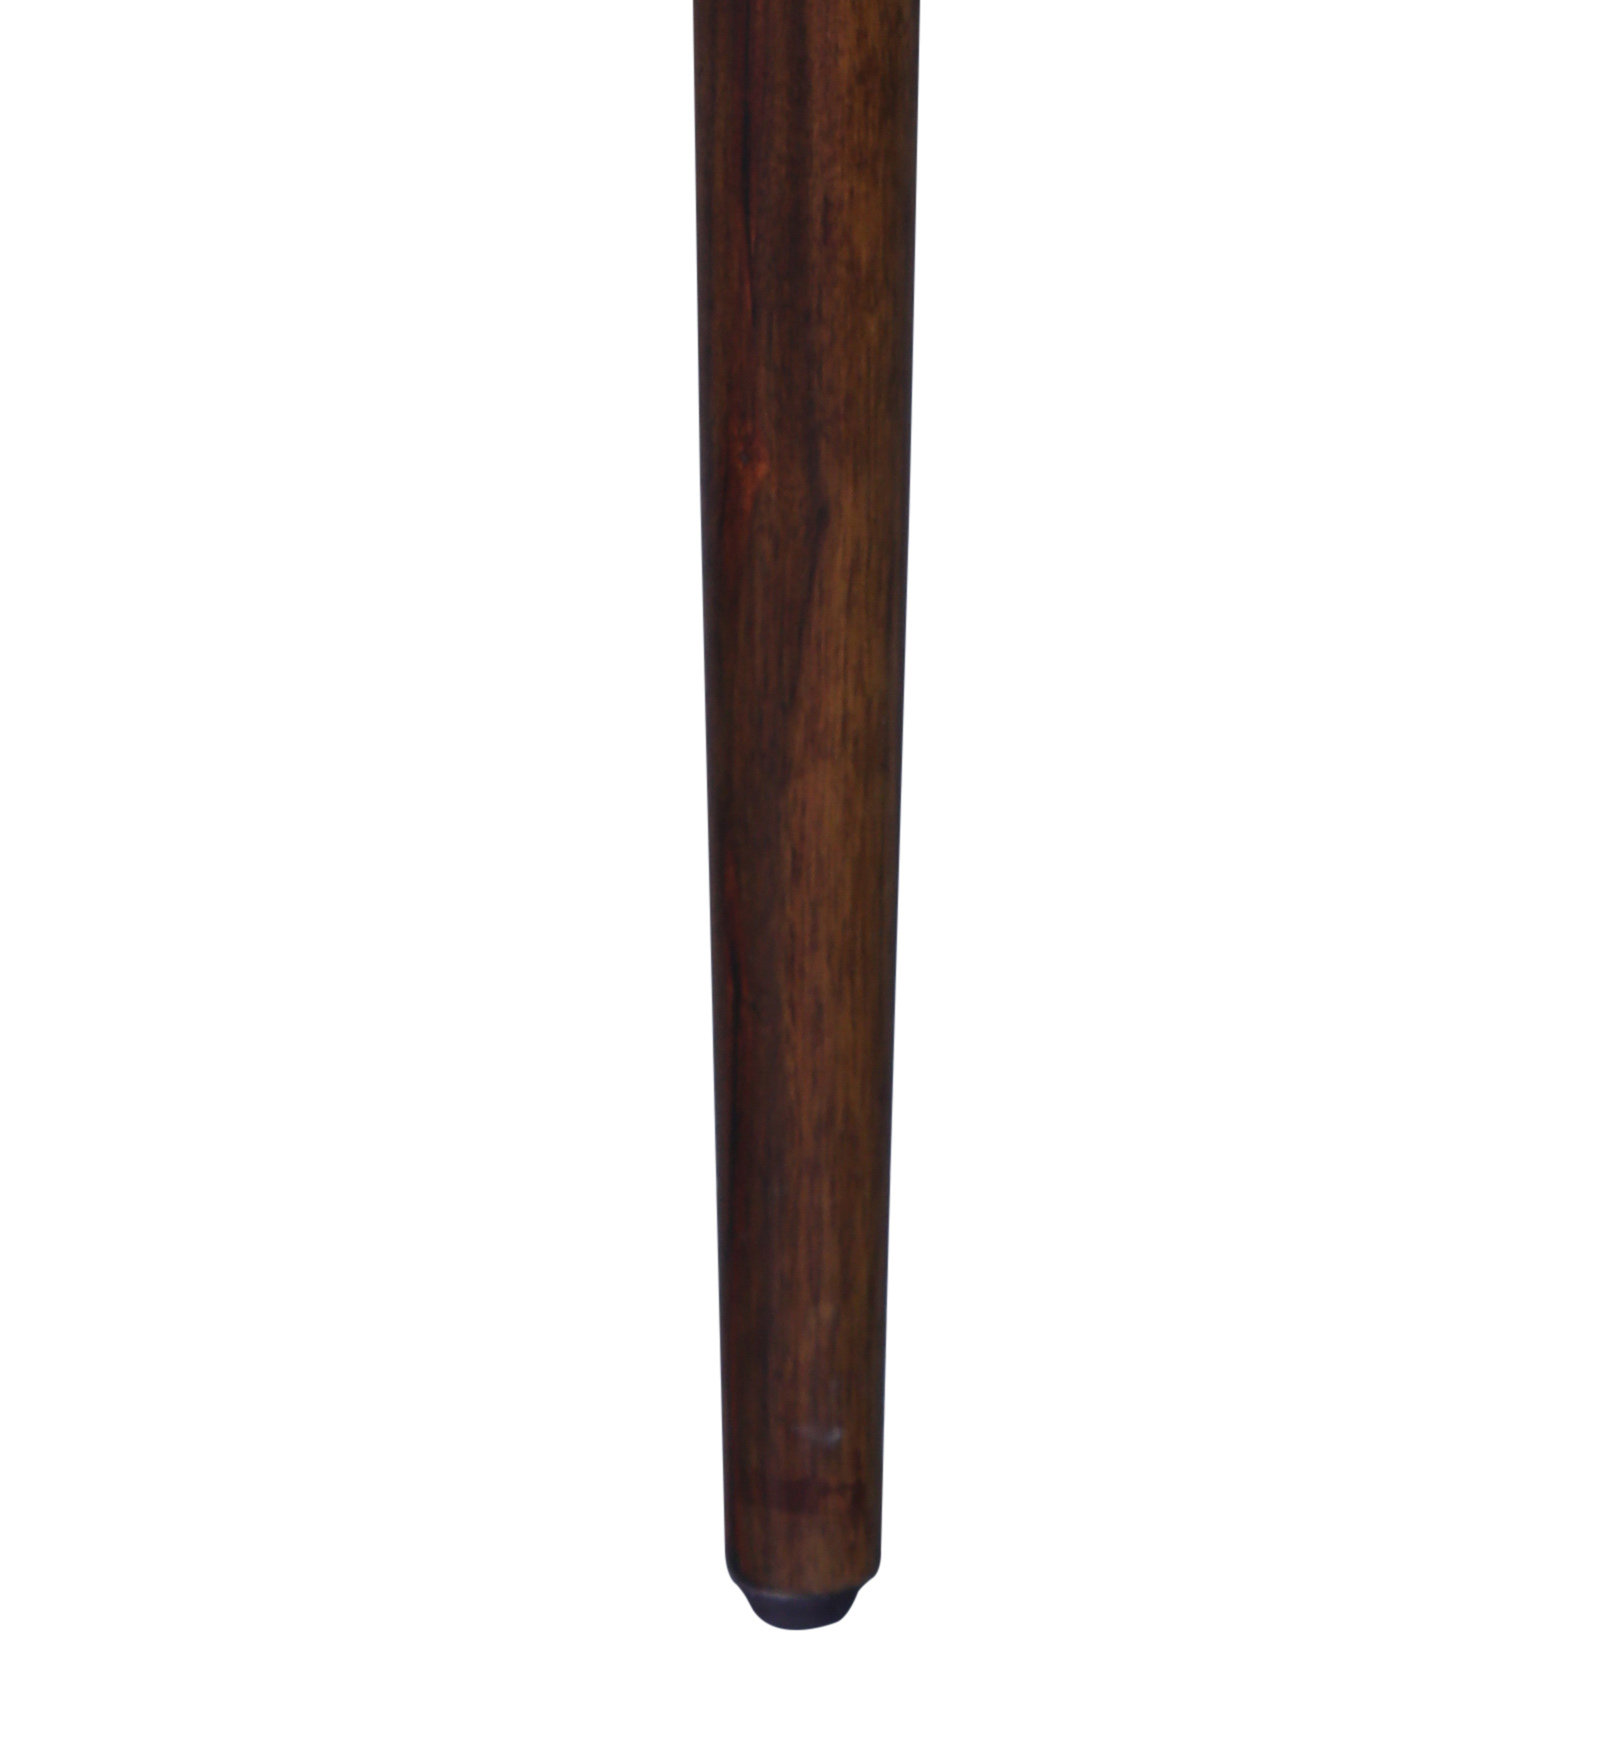Esvelt Arm Chair in Provincial Teak Finish by Woodsworth: (621, 8, 958, 1680)
